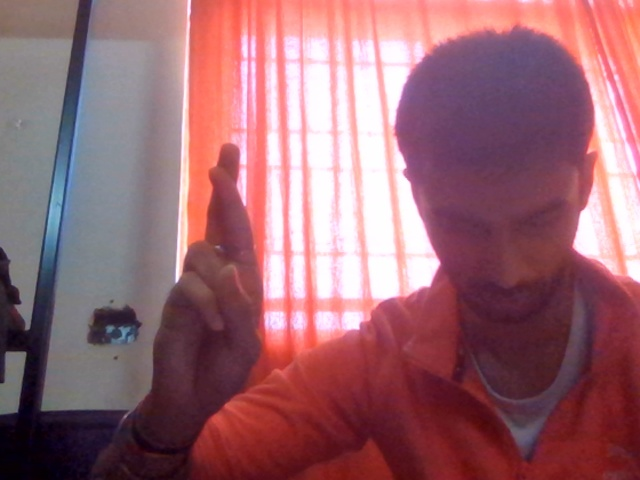R: (148, 123, 327, 439)
